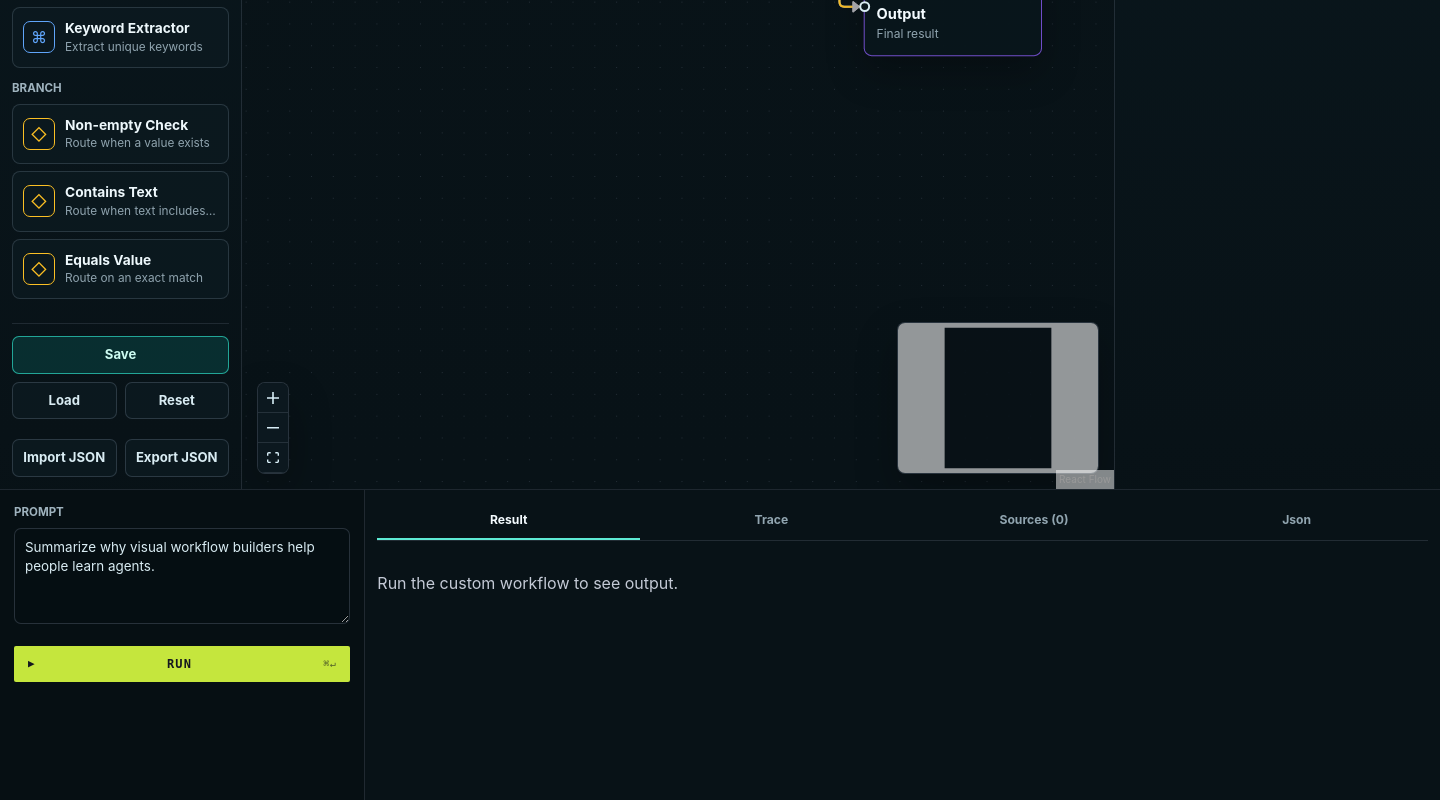
Test: WorkflowBuilder › renders JSON-like custom workflow answers as structured output
The image size is (1440, 800).
(page scrolled)
Click the button "▶ Run ⌘↵". click: (182,664)
box: [14,646,350,682]
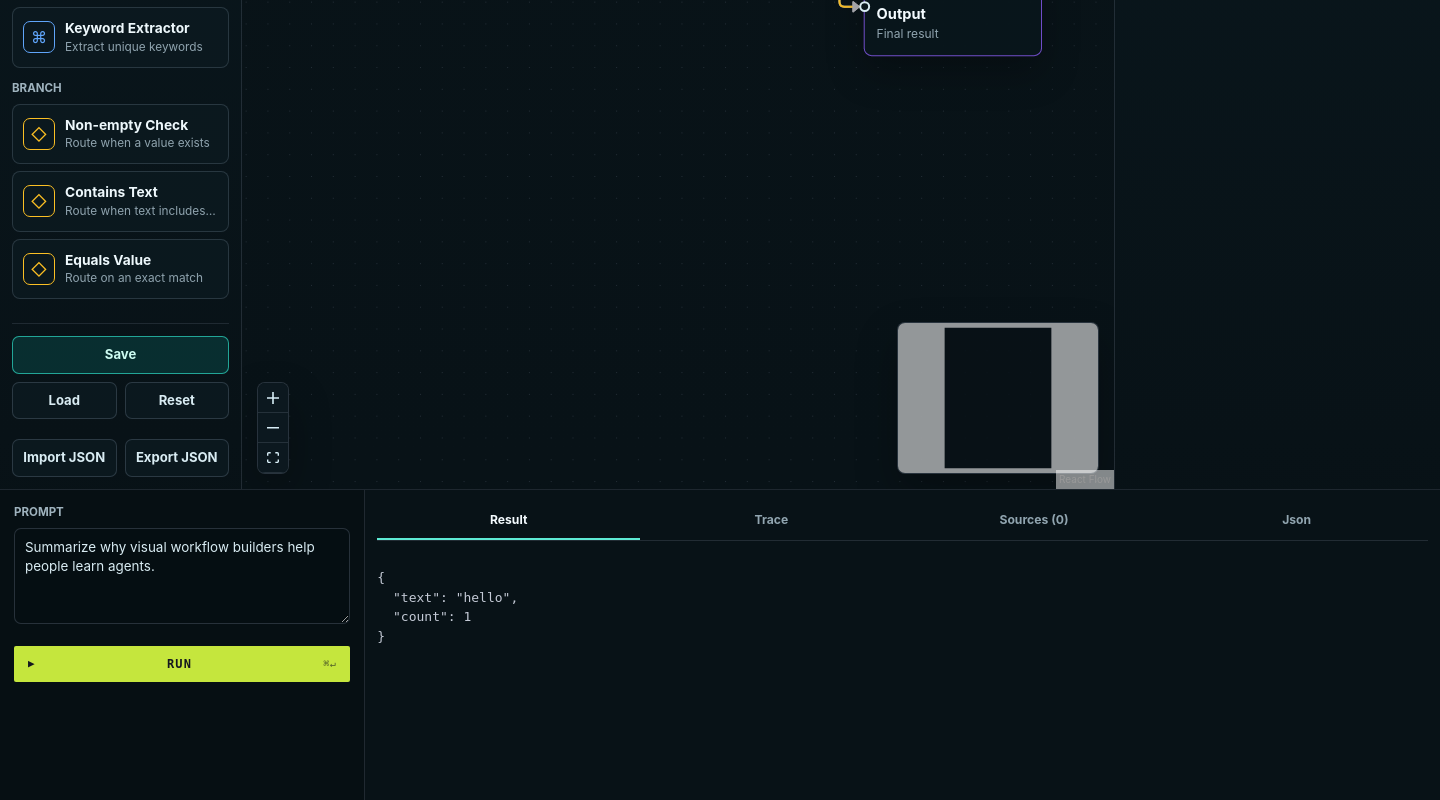
Expected: the text with class "json-pre" shows "\"text\": \"hello\"", [377,570,518,644]
Expected: the text with class "json-pre" shows "\"count\": 1", [377,570,518,644]
